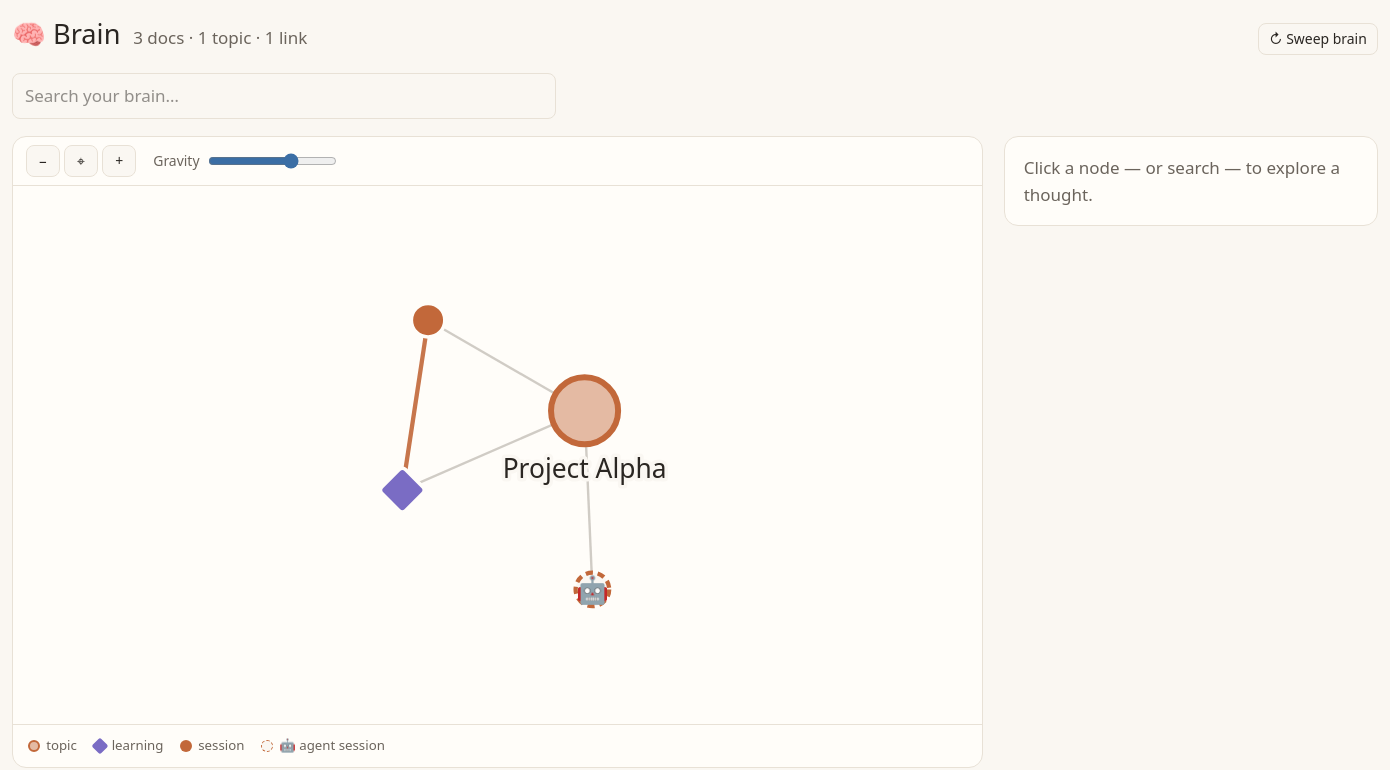
Test: BrainView › starts a sweep and shows progress from the running job
Click the button "↻ Sweep brain": (1318,39) [1258,23,1378,55]
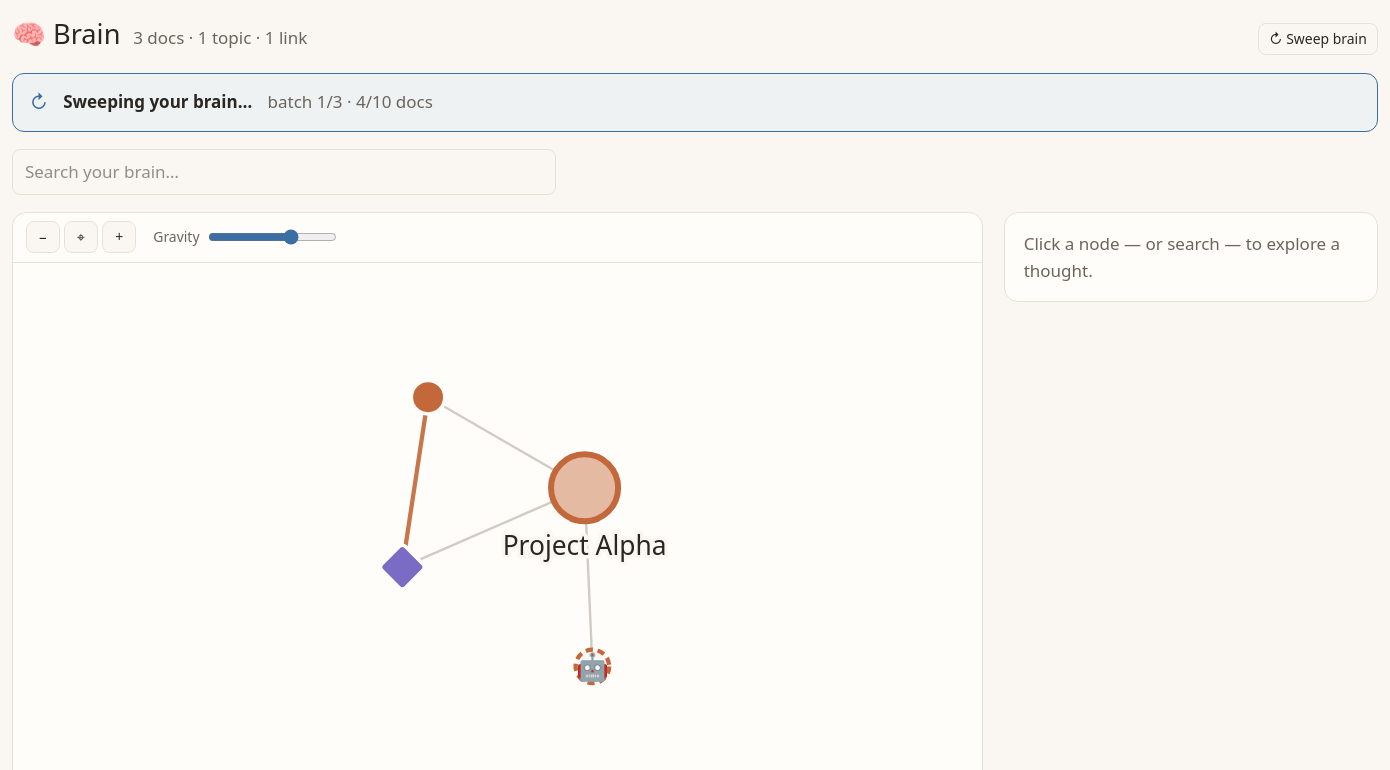
Result: the text "batch 1/3 · 4/10 docs" is shown at [268,88,433,116]
